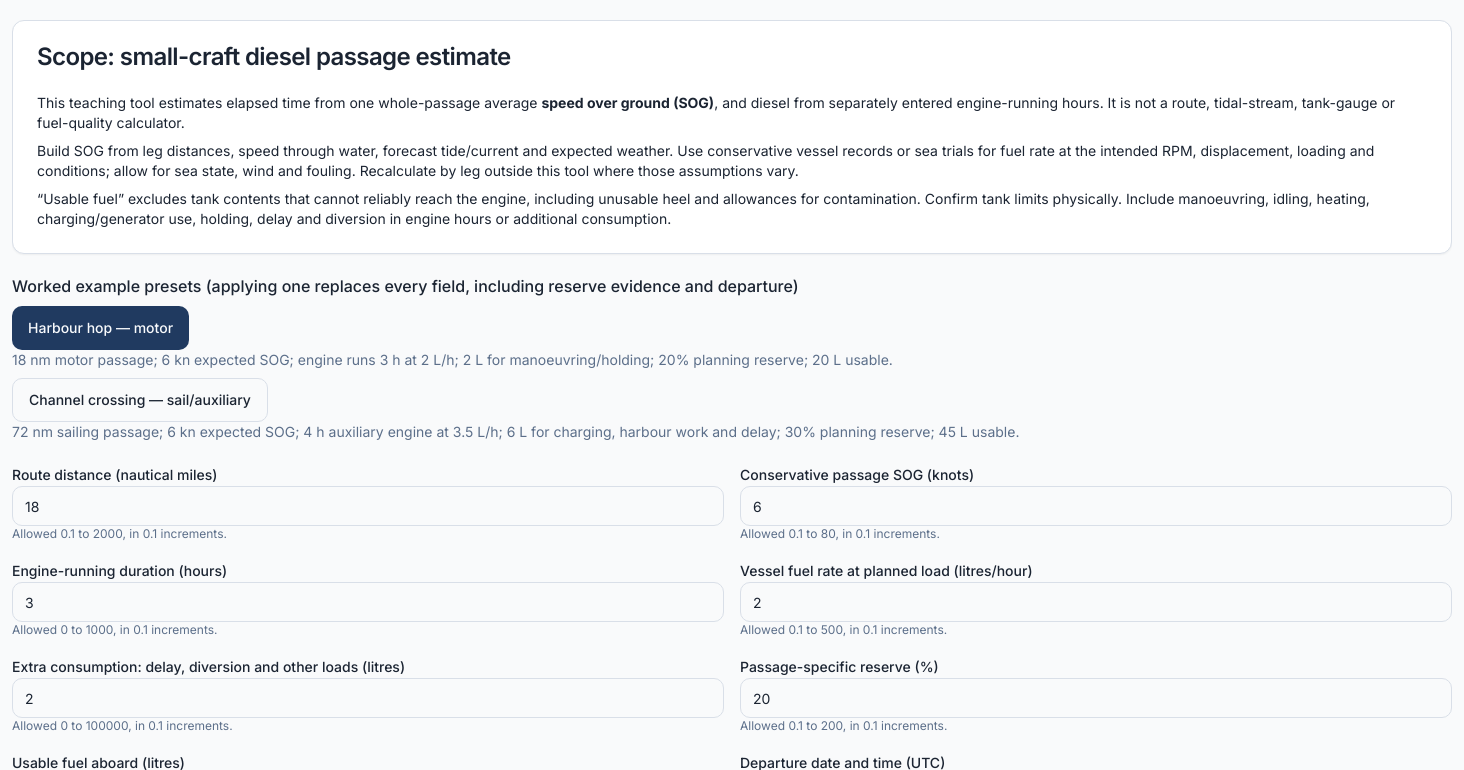
it: FuelCalculator › applies every documented sail preset field and prevents completion when usable fuel is insufficient
Click the button "Channel crossing — sail/auxiliary".
click(140, 400)  # box [12,378,268,422]
(page scrolled)
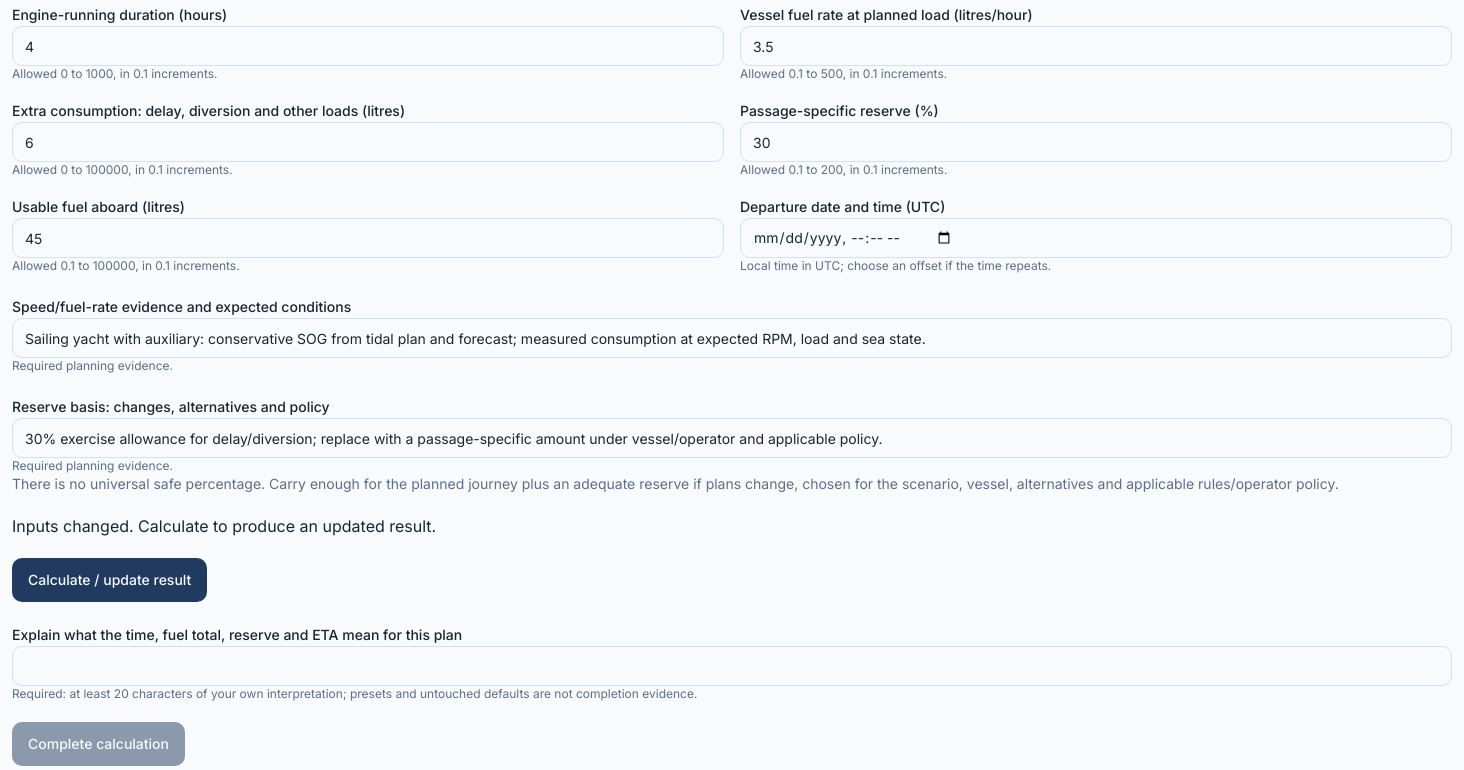
Expected: the field labelled "Departure date and time (UTC)" is empty, [740,218,1452,258]
Result: the number field labelled "Engine-running duration (hours)" holds "4" at [12,26,724,66]
Result: the number field labelled "Passage-specific reserve (%)" holds "30" at [740,122,1452,162]
Click the button "Calculate / update result".
click(110, 580)  # box [12,558,207,602]
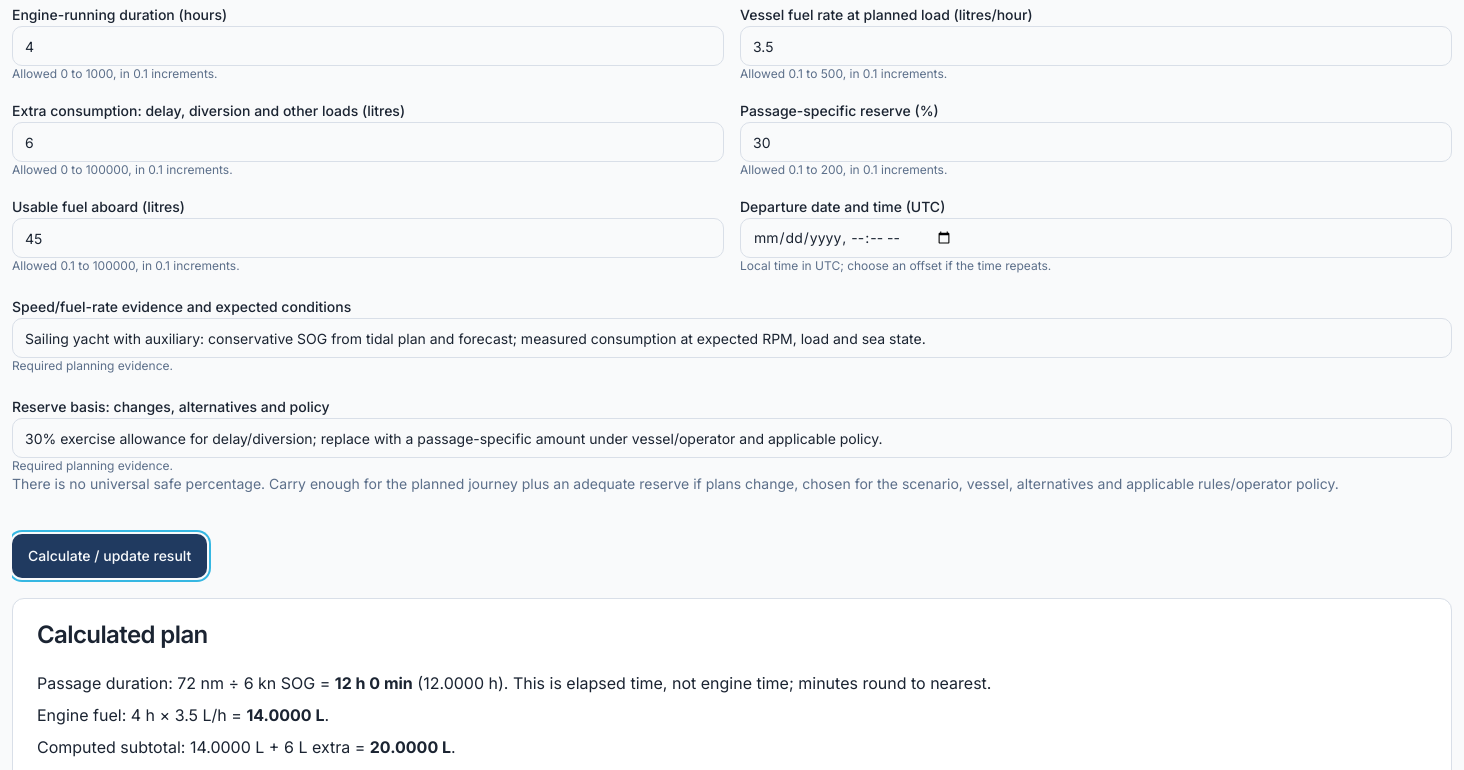
Result: the text "Passage duration:" shows "12 h 0 min" at [335,673,413,693]
Result: the text "Engine fuel: 4 h × 3.5 L/h = 14.0000 L." is shown at [37,705,329,725]
Replace the text in the number field labelled "Usable fuel aboard (litres)" with "10" at point(368, 238), box [12,218,724,258]
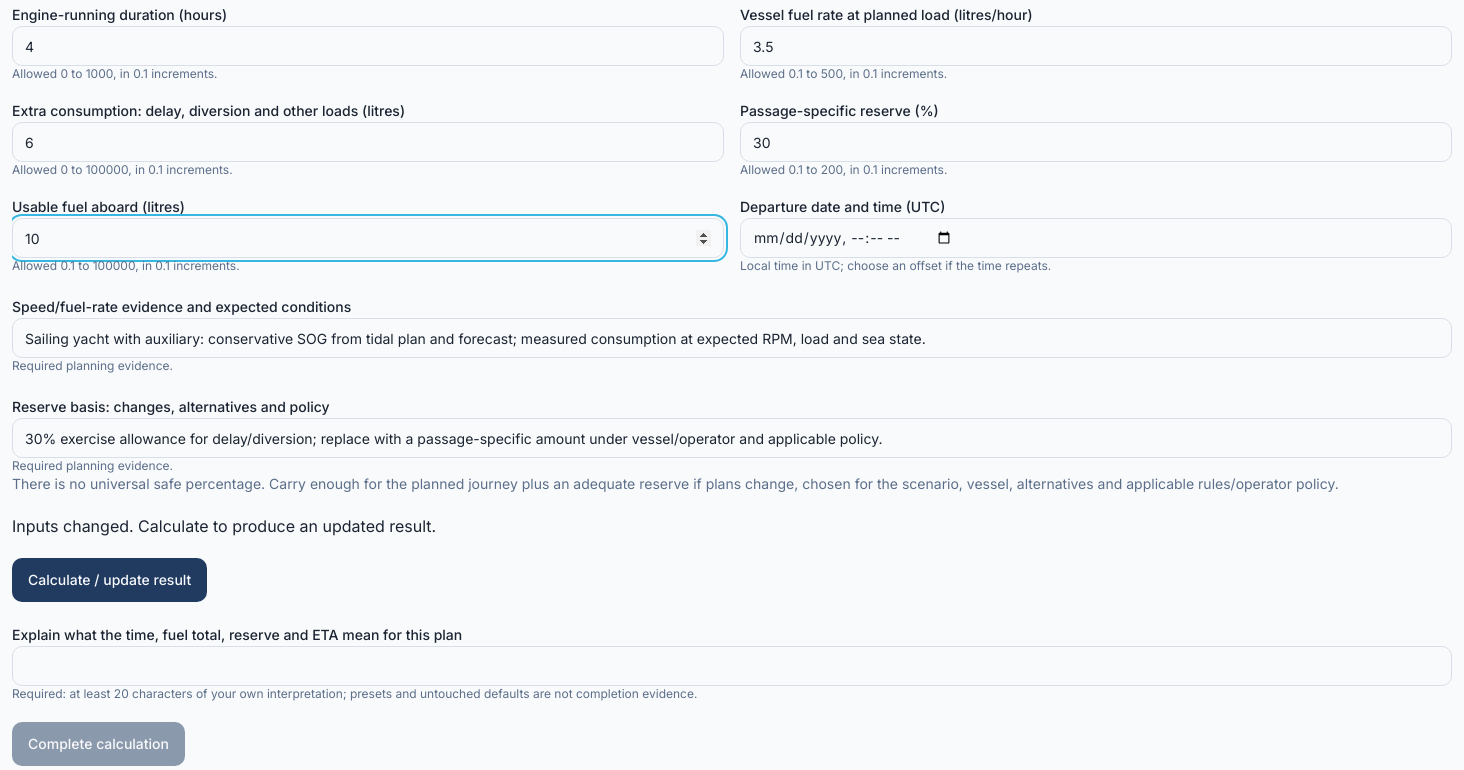
Click the button "Calculate / update result".
click(110, 580)  # box [12,558,207,602]
(page scrolled)
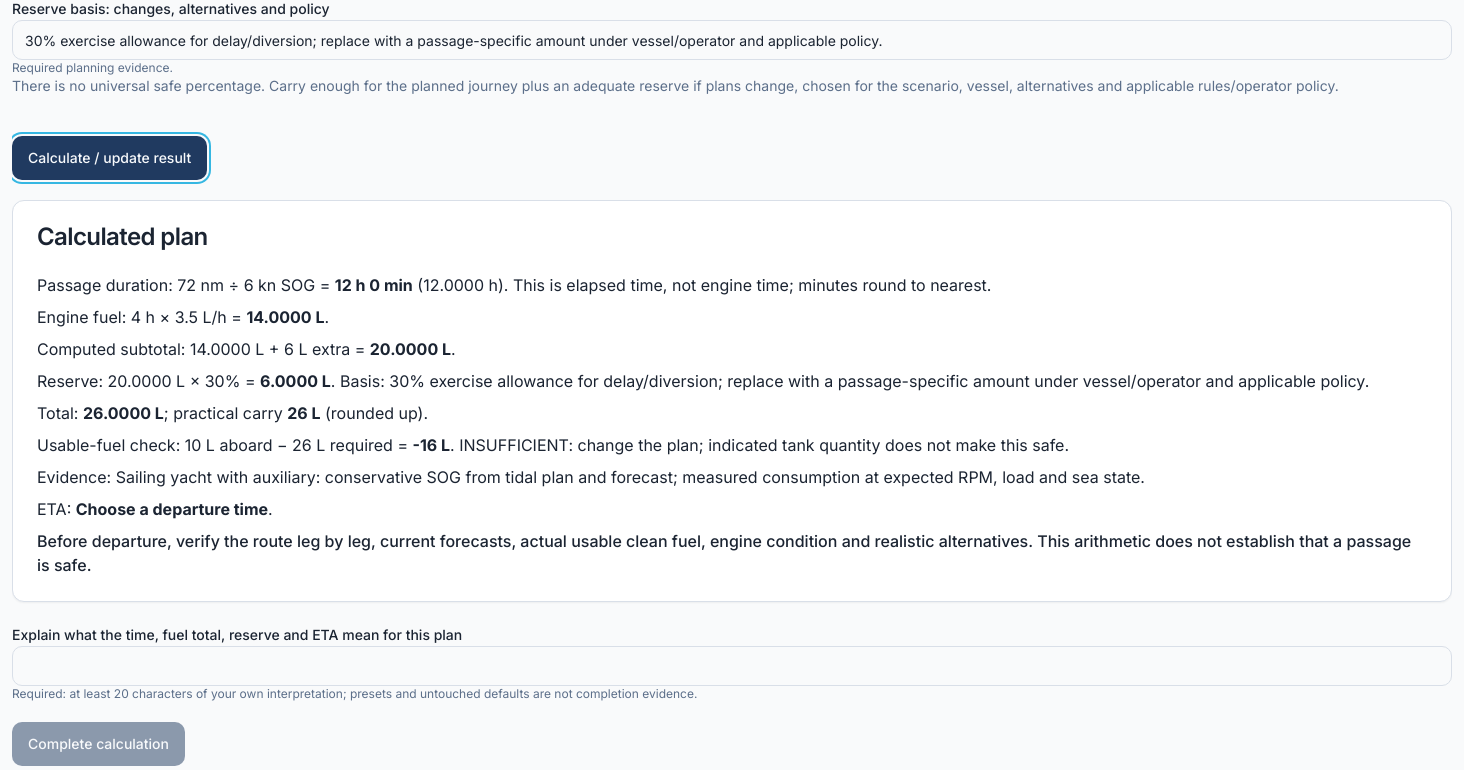
Expected: the button "Complete calculation" is disabled, [12,722,185,766]
Result: the text "INSUFFICIENT" is shown at [459,435,1069,455]
